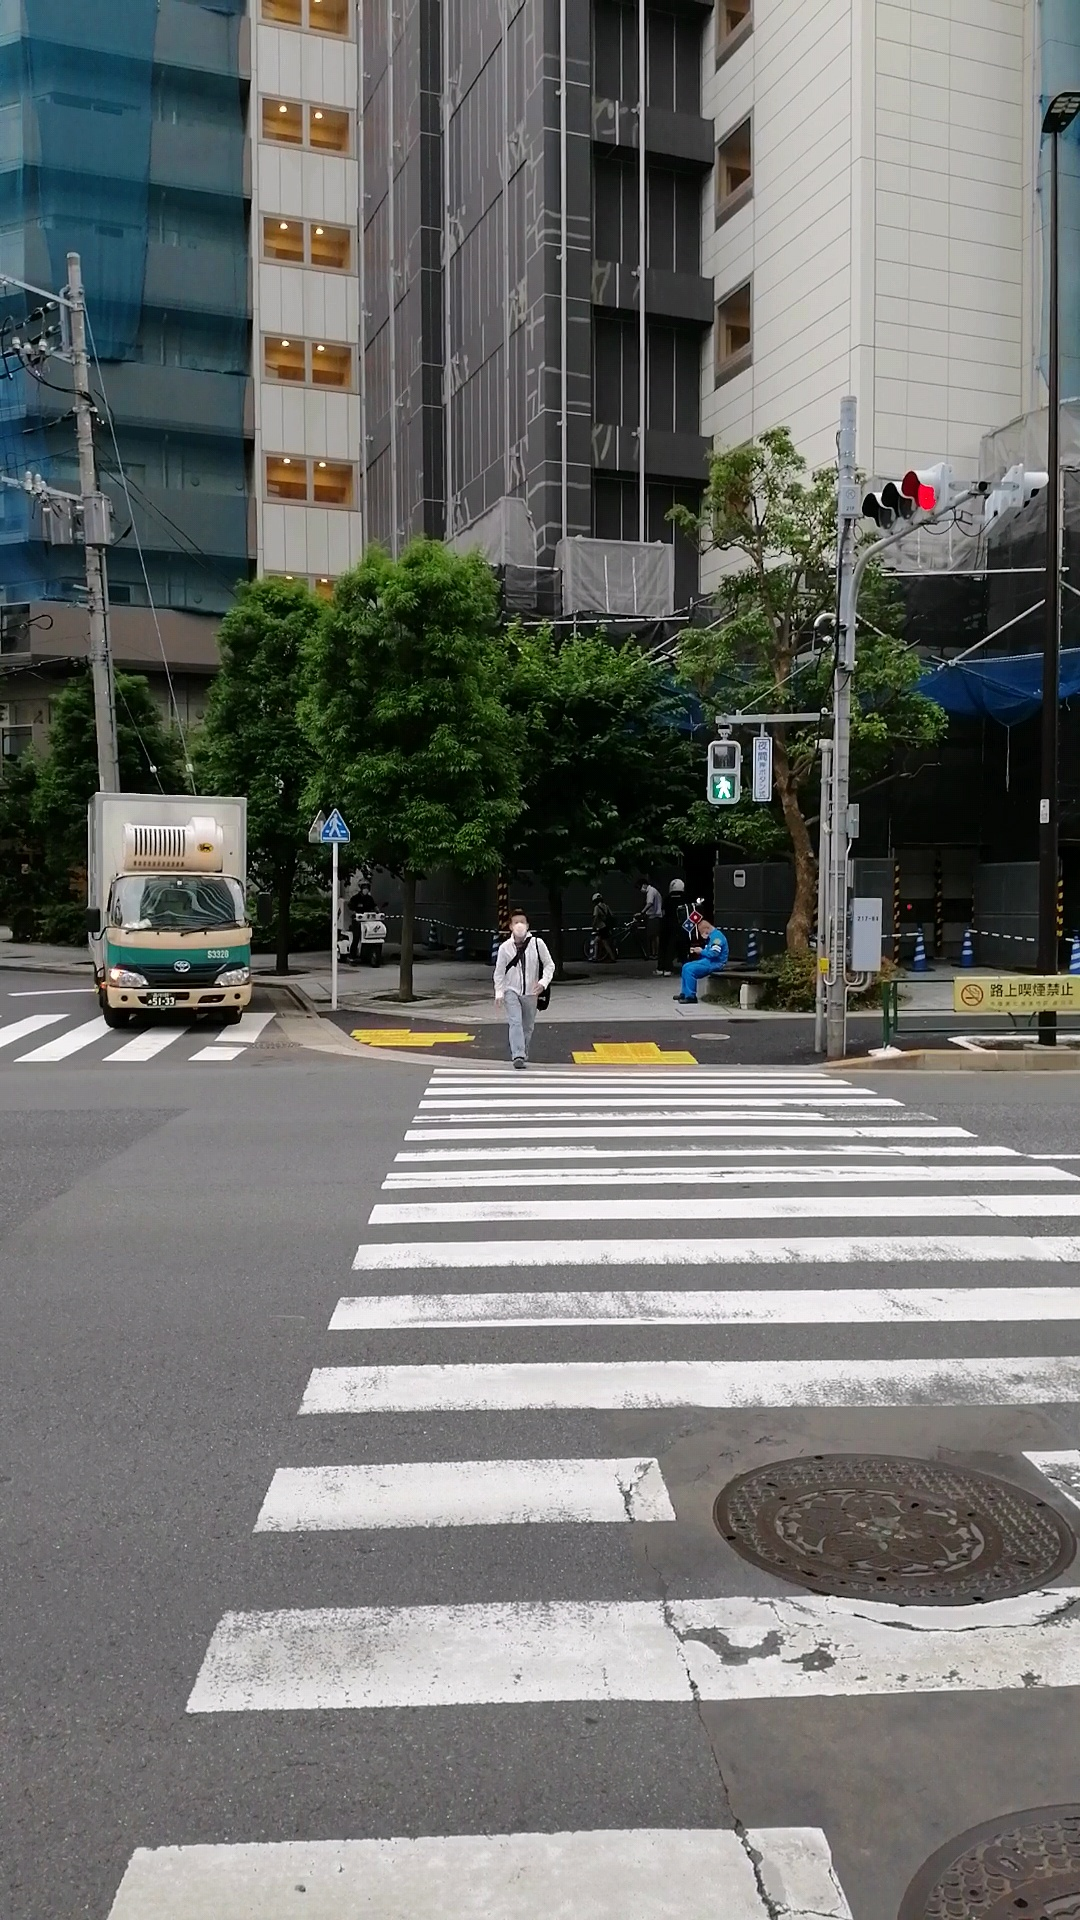green: (707, 740, 738, 804)
